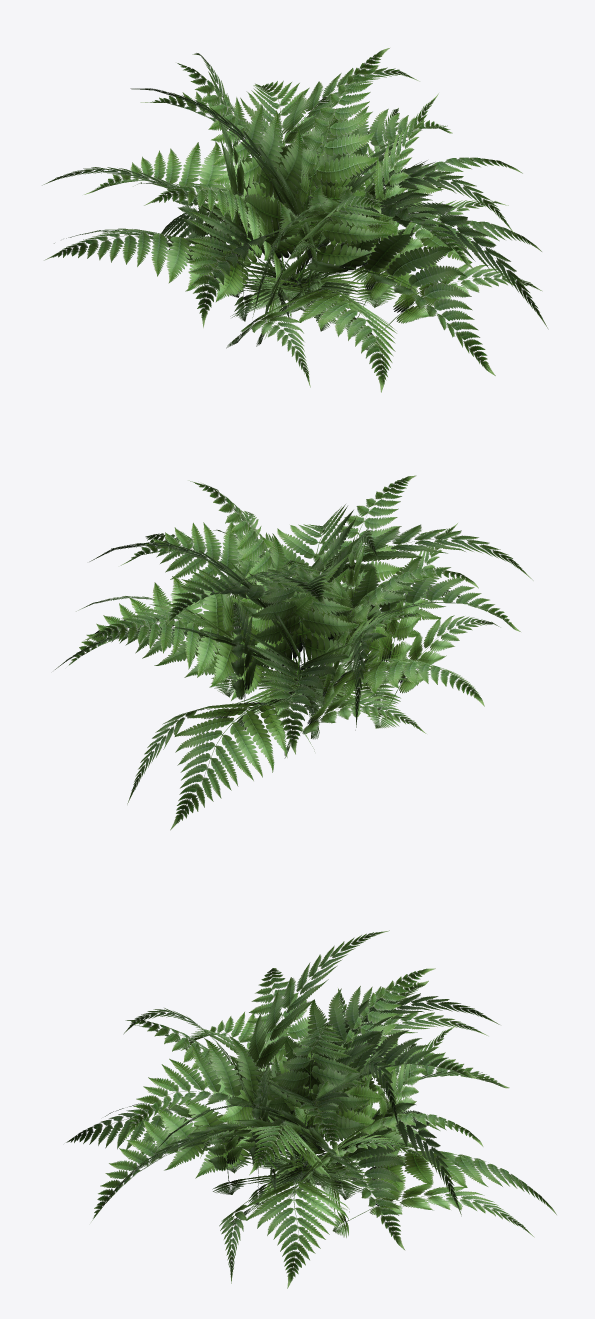
File: fern-c.glb
The picture shows the model from 3 angles, top to bottom: view 1: azimuth 30°, elevation 25°; view 2: azimuth 150°, elevation 25°; view 3: azimuth 270°, elevation 25°; orthographic projection. The views are drawn at different scales.
Visible parts, largest first — view 1: fern-c; view 2: fern-c; view 3: fern-c.
Part boxes in pixels (left/top/right/bottom): fern-c: left=42, top=48, right=548, bottom=392; fern-c: left=55, top=475, right=533, bottom=830; fern-c: left=66, top=930, right=556, bottom=1288.
Size of the model in its own units: 2.69 by 1.56 by 2.75.
Materials: 1 (1 with a texture image).
